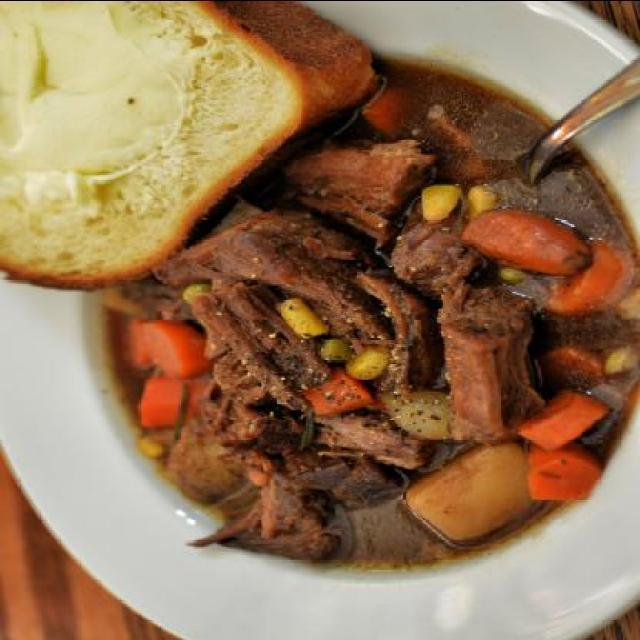Bread: (0, 2, 357, 286)
